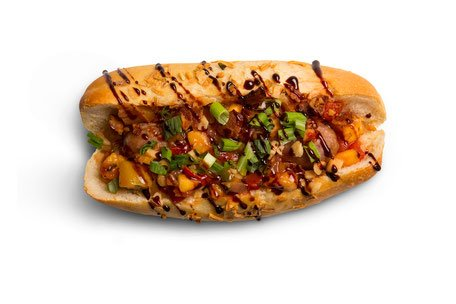sandwich: (78, 58, 390, 222)
